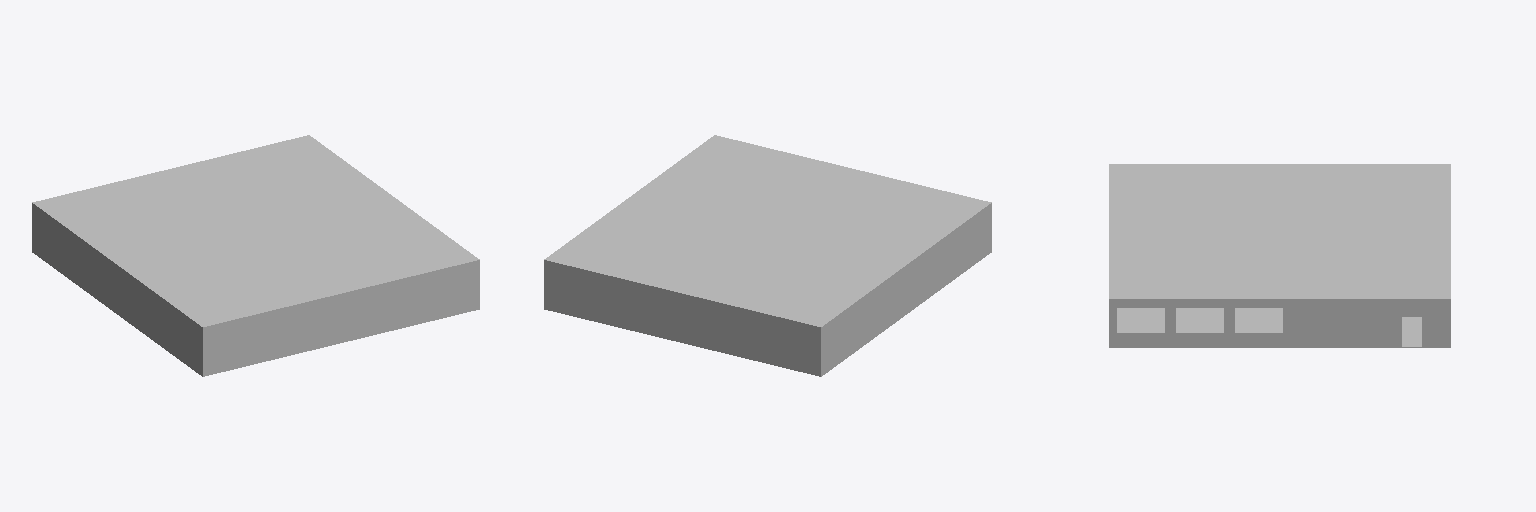
The model's file is medium.obj.
3 renders of one model, left to right at view 1: azimuth 30°, elevation 25°; view 2: azimuth 150°, elevation 25°; view 3: azimuth 270°, elevation 25°, orthographic.
Parts seen in each view (by area): view 1: room; view 2: room; view 3: room.
Part boxes in pixels (left/top/right/bottom): room: left=32, top=135, right=479, bottom=376; room: left=544, top=135, right=991, bottom=376; room: left=1109, top=164, right=1450, bottom=347.
Bounding box in the file's own units: 76 × 13 × 81.